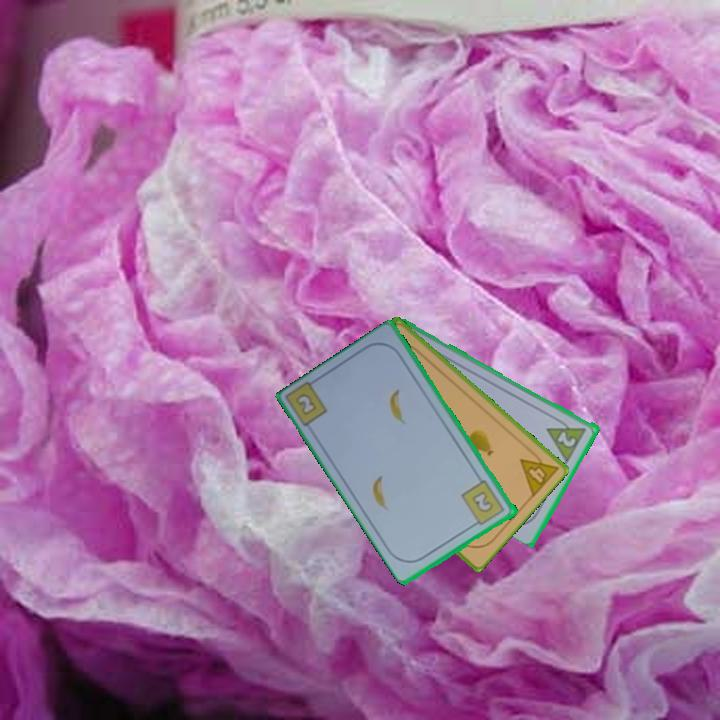2b: (458, 477, 508, 530), (294, 392, 318, 416)
2p: (554, 428, 579, 450)
4p: (516, 444, 561, 500)
